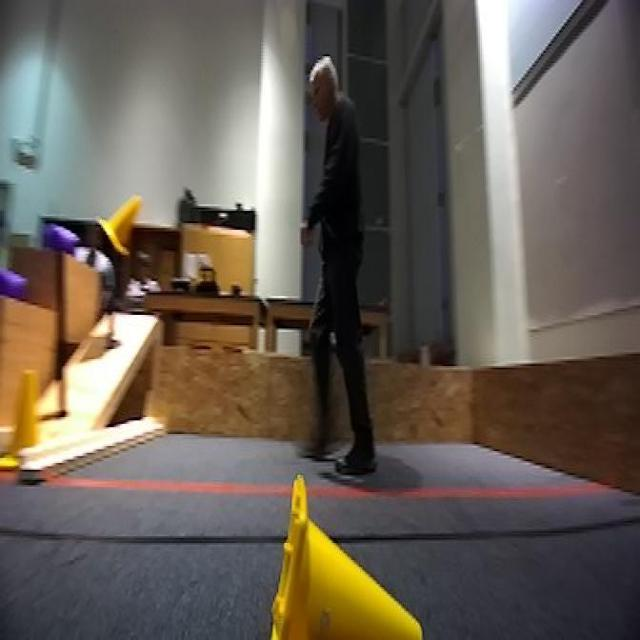frc_cone: (264, 463, 438, 640), (0, 364, 36, 473), (96, 192, 146, 260)
frc_cube: (43, 223, 78, 257), (2, 266, 30, 296)
